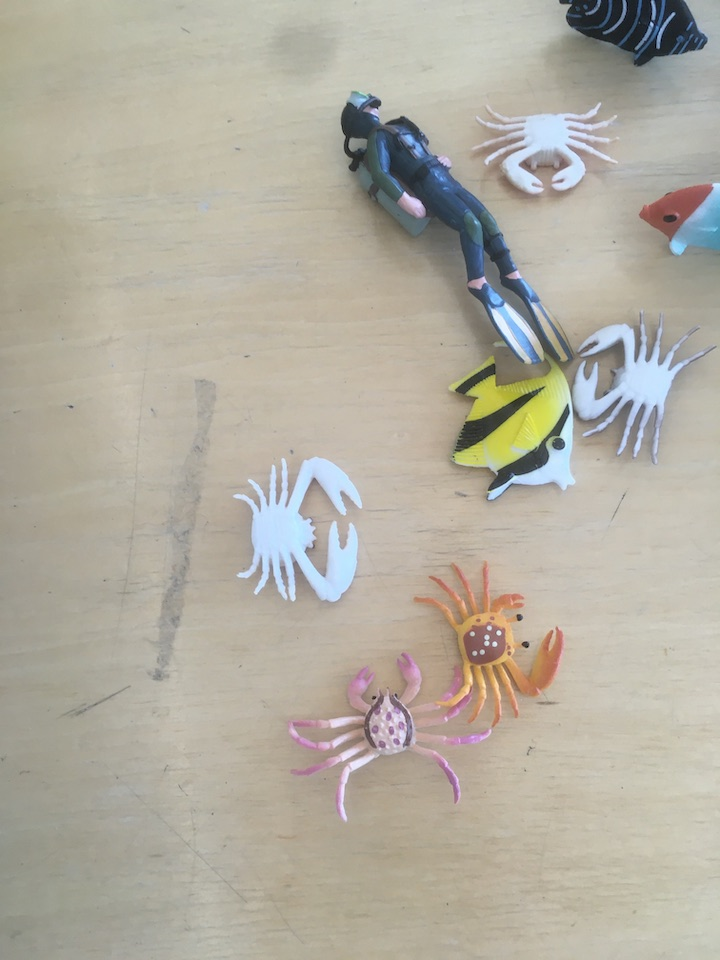crab: (278, 648, 499, 829), (406, 554, 567, 730), (233, 449, 370, 609), (571, 314, 716, 464), (467, 98, 624, 196)
danger: (446, 338, 583, 504)
diver: (337, 86, 579, 370)
fish: (555, 1, 711, 71), (636, 177, 720, 263)
